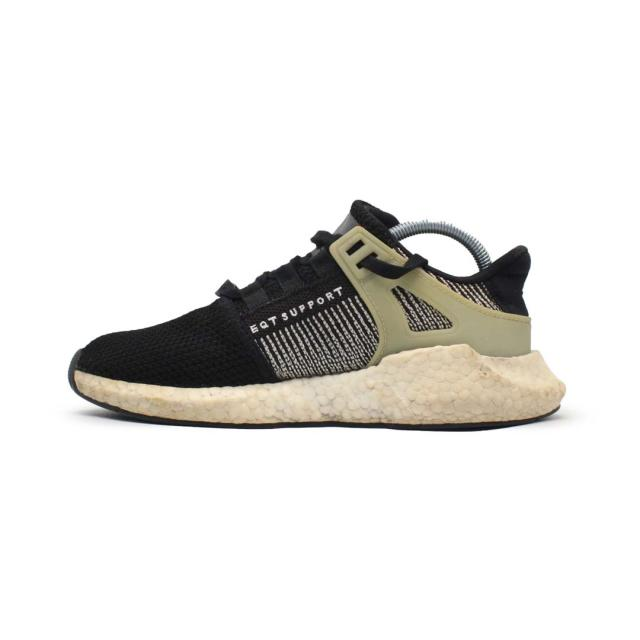heel: (465, 245, 530, 355)
midsole: (69, 343, 566, 428)
uppersole: (74, 204, 469, 386)
